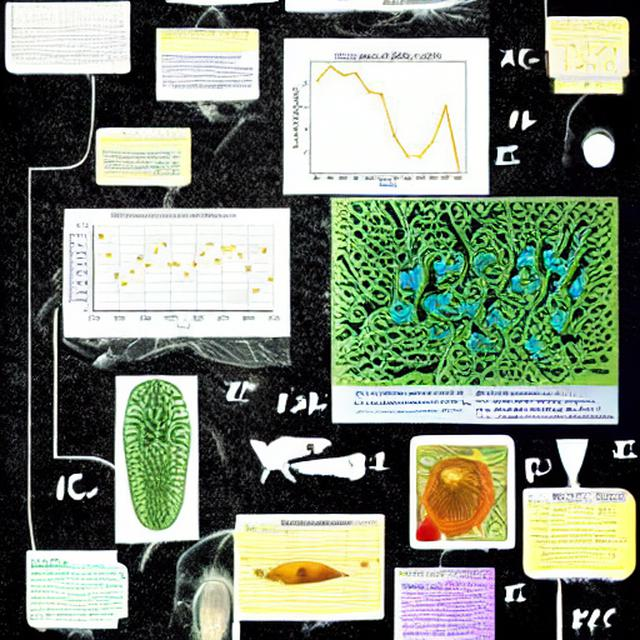Graph: (285, 41, 486, 192), (65, 210, 283, 334), (5, 4, 55, 33)
